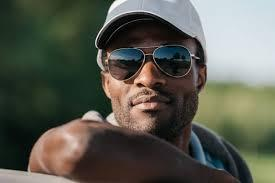cap: (89, 0, 217, 68)
sunglasses: (103, 44, 197, 84)
